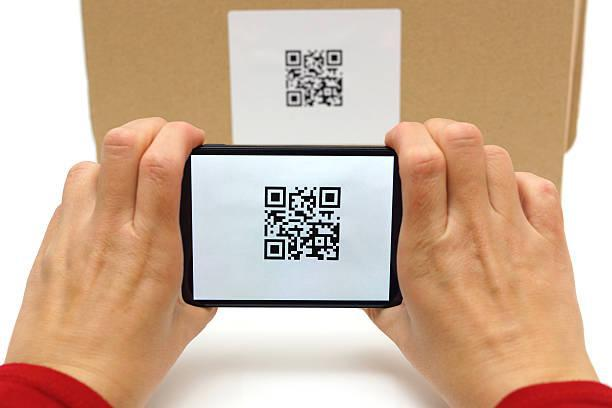Finder pattern: (261, 236, 289, 264), (318, 184, 344, 211), (263, 184, 289, 209), (281, 45, 304, 69), (321, 48, 346, 68), (283, 88, 306, 109)
